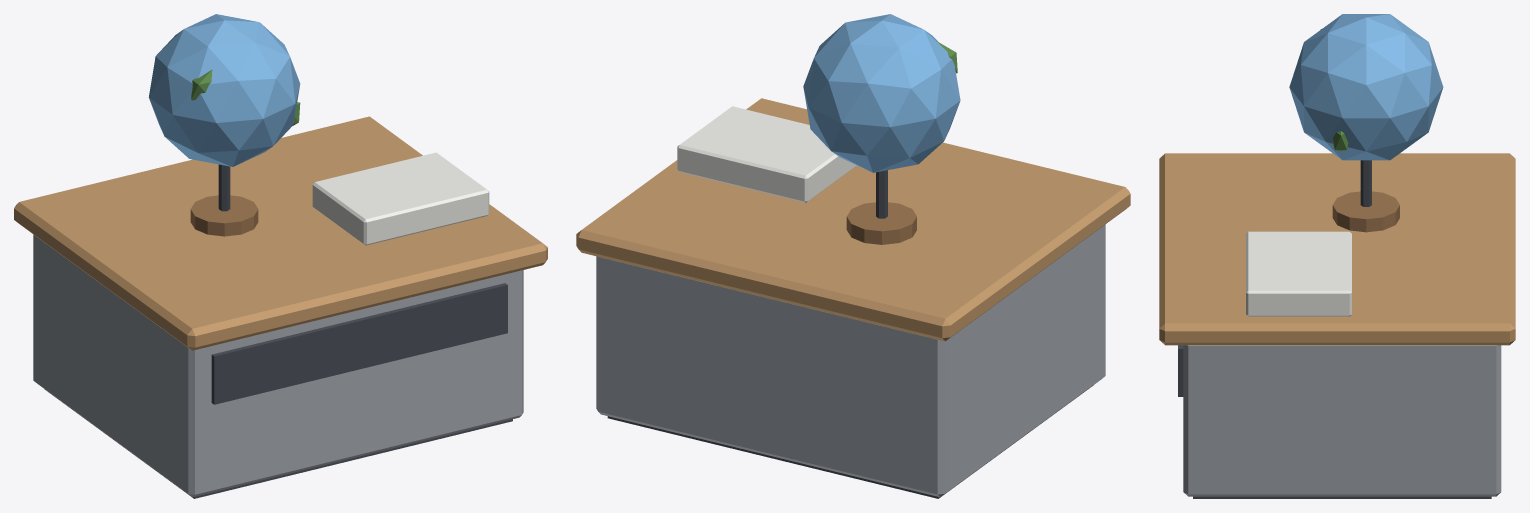
File: delegation_p1_4.glb
3 views of the same model, side by side, from view 1: azimuth 30°, elevation 25°; view 2: azimuth 150°, elevation 25°; view 3: azimuth 270°, elevation 25° (orthographic). The views are drawn at different scales.
Parts seen in each view (by area): view 1: delegation_p1_4_mesh_Desk, delegation_p1_4_mesh; view 2: delegation_p1_4_mesh_Desk, delegation_p1_4_mesh; view 3: delegation_p1_4_mesh_Desk, delegation_p1_4_mesh.
Boxes of the visible parts, bbox=[...] form: delegation_p1_4_mesh_Desk: bbox=[14, 116, 547, 498]; delegation_p1_4_mesh: bbox=[148, 14, 489, 245]; delegation_p1_4_mesh_Desk: bbox=[576, 98, 1130, 498]; delegation_p1_4_mesh: bbox=[677, 14, 960, 244]; delegation_p1_4_mesh_Desk: bbox=[1159, 153, 1515, 498]; delegation_p1_4_mesh: bbox=[1246, 14, 1443, 316].
Size of the model in its own units: 0.86 by 0.88 by 0.74.
